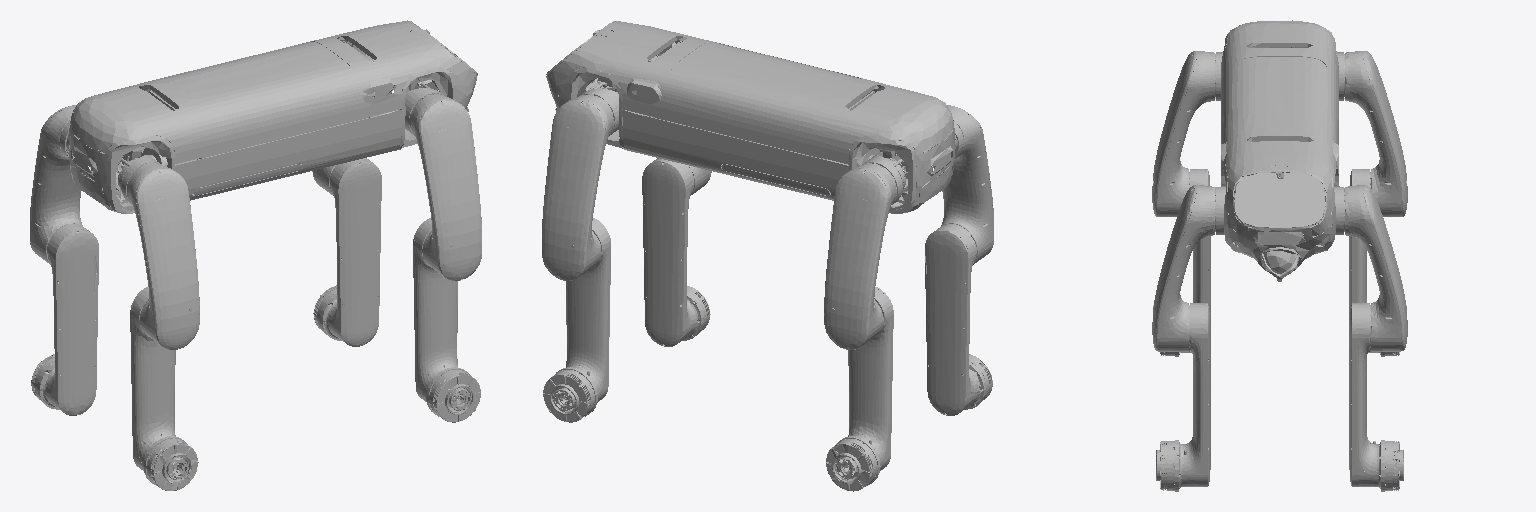
The robot description file, URDF, robot "pcb_v2":
<?xml version="1.0" encoding="utf-8"?>
<!-- This URDF was automatically created by SolidWorks to URDF Exporter! Originally created by Stephen Brawner (brawner@gmail.com) 
     Commit Version: 1.6.0-4-g7f85cfe  Build Version: 1.6.7995.38578
     For more information, please see http://wiki.ros.org/sw_urdf_exporter -->
<robot name="pcb_v2">
   <!-- <mujoco>
        <compiler 
        angle="radian"
        meshdir="../mesh/" 
        balanceinertia="true" 
        discardvisual="false" />
  </mujoco>
  <link name="world"/>
  <joint name="floating_base" type="floating">
    <parent link="world"/>
    <child link="Base_link"/>
    <origin xyz="0 0 0" rpy="0 0 0"/>
  </joint>  -->

  
  <link
    name="Base_link">
    <inertial>
      <origin
        xyz="0.022644 -0.001048 0.006253"
        rpy="0 0 0" />
      <mass
        value="10.102" />
      <inertia
        ixx="0.040804057"
        ixy="0.003158398"
        ixz="-0.000128486"
        iyy="0.258243473"
        iyz="-0.000100824"
        izz="0.271783728" />
    </inertial>
    <visual>
      <origin
        xyz="0 0 0"
        rpy="0 0 0" />
      <geometry>
        <mesh
          filename="../mesh/Base_link.STL" />
      </geometry>
      <material
        name="">
        <color
          rgba="0.752941176470588 0.752941176470588 0.752941176470588 1" />
      </material>
    </visual>
    <collision>
      <origin xyz="0.025 0 0.015" rpy="0 0 0" />
      <geometry>
        <box size="0.7 0.13 0.15" />
      </geometry>
    </collision>
  </link>
    
  <joint name="imu_joint" type="fixed">
    <parent link="Base_link"/>
    <child link="imu_link"/>
    <origin rpy="0 0 0" xyz="0 0 0"/>
  </joint>
  <link name="imu_link">
    <inertial>
      <mass value="0.001"/>
      <origin rpy="0 0 0" xyz="0 0 0"/>
      <inertia ixx="0.0001" ixy="0" ixz="0" iyy="0.0001" iyz="0" izz="0.0001"/>
    </inertial>
    <visual>
      <origin rpy="0 0 0" xyz="0 0 0"/>
      <geometry>
        <box size="0.001 0.001 0.001"/>
      </geometry>
    </visual>
    <collision>
      <origin rpy="0 0 0" xyz="0 0 0"/>
      <geometry>
        <box size=".001 .001 .001"/>
      </geometry>
    </collision>
  </link>
    <link
    name="FL_hip_link">
    <inertial>
      <origin
        xyz="0.042292 0.037471 0.000978"
        rpy="0 0 0" />
      <mass
        value="0.594" />
      <inertia
        ixx="0.000477476"
        ixy="-0.000028098"
        ixz="-0.000014122"
        iyy="0.000467730"
        iyz="-0.000003242"
        izz="0.000494014" />
    </inertial>
    <visual>
      <origin
        xyz="0 0 0"
        rpy="0 0 0" />
      <geometry>
        <mesh
          filename="../mesh/FL_hip_link.STL" />
      </geometry>
      <material
        name="">
        <color
          rgba="0.752941176470588 0.752941176470588 0.752941176470588 1" />
      </material>
    </visual>
  </link>
  <joint
    name="FL_hip_joint"
    type="revolute">
    <origin
      xyz="0.2131 0.05 0"
      rpy="0 0 0" />
    <parent
      link="Base_link" />
    <child
      link="FL_hip_link" />
    <axis
      xyz="1 0 0" />
    <limit
      lower="-0.61056"
      upper="0.34889"
      effort="48"
      velocity="12.57" />
  </joint>
  <link
    name="FL_thigh_link">
    <inertial>
      <origin
        xyz="-0.000658 0.047743 -0.162875"
        rpy="0 0 0" />
      <mass
        value="0.853" />
      <inertia
        ixx="0.005802502"
        ixy="0.000003729"
        ixz="-0.000013513"
        iyy="0.005792851"
        iyz="0.000821001"
        izz="0.000901601" />
    </inertial>
    <visual>
      <origin
        xyz="0 0 0"
        rpy="0 0 0" />
      <geometry>
        <mesh
          filename="../mesh/FL_thigh_link.STL" />
      </geometry>
      <material
        name="">
        <color
          rgba="0.752941176470588 0.752941176470588 0.752941176470588 1" />
      </material>
    </visual>
    <collision>
      <origin xyz="0 0.015 0" rpy="1.5708 0 0" />
      <geometry>
        <cylinder radius="0.042" length="0.05" />
      </geometry>
    </collision>
    <collision>
      <origin xyz="0 0.06 -0.1" rpy="0.25 0 0" />
      <geometry>
        <box size="0.085 0.035 0.11" />
      </geometry>
    </collision>
  </link>
  <joint
    name="FL_thigh_joint"
    type="revolute">
    <origin
      xyz="0.0432 0.06248 0"
      rpy="0 0 0" />
    <parent
      link="FL_hip_link" />
    <child
      link="FL_thigh_link" />
    <axis
      xyz="0 1 0" />
    <limit
      lower="-2.2"
      upper="2.05"
      effort="48"
      velocity="12.57" />
  </joint>
  <link
    name="FL_calf_link">
    <inertial>
      <origin
        xyz="-0.000904 0.016656 -0.217363"
        rpy="0 0 0" />
      <mass
        value="0.688" />
      <inertia
        ixx="0.018453974"
        ixy="0.000011100"
        ixz="-0.000020596"
        iyy="0.018669061"
        iyz="0.000334096"
        izz="0.001280151" />
    </inertial>
    <visual>
      <origin
        xyz="0 0 0"
        rpy="0 0 0" />
      <geometry>
        <mesh
          filename="../mesh/FL_calf_link.STL" />
      </geometry>
      <material
        name="">
        <color
          rgba="0.752941176470588 0.752941176470588 0.752941176470588 1" />
      </material>
    </visual>
    <collision>
      <origin xyz="0 0.02 0" rpy="1.5708 0 0" />
      <geometry>
        <cylinder radius="0.042" length="0.09" />
      </geometry>
    </collision>
    <collision>
      <origin xyz="0 -0.013 -0.13" rpy="0 0 0" />
      <geometry>
        <box size="0.08 0.025 0.17" />
      </geometry>
    </collision>
  </link>
  <joint
    name="FL_calf_joint"
    type="revolute">
    <origin
      xyz="0 0.02915 -0.21"
      rpy="0 0 0" />
    <parent
      link="FL_thigh_link" />
    <child
      link="FL_calf_link" />
    <axis
      xyz="0 1 0" />
    <limit
      lower="-2.7475"
      upper="1.4741"
      effort="48"
      velocity="12.57" />
  </joint>
  <link
    name="FL_foot_link">
    <inertial>
      <origin
        xyz="0.000000 -0.013540 0.000000"
        rpy="0 0 0" />
      <mass
        value="0.420" />
      <inertia
        ixx="0.001068390"
        ixy="0.000000000"
        ixz="0.000000005"
        iyy="0.002037382"
        iyz="0.000000000"
        izz="0.001068397" />
    </inertial>
    <visual>
      <origin
        xyz="0 0 0"
        rpy="0 0 0" />
      <geometry>
        <mesh
          filename="../mesh/FL_foot_link1.STL" />
      </geometry>
      <material
        name="">
        <color
          rgba="0.752941176470588 0.752941176470588 0.752941176470588 1" />
      </material>
    </visual>
    <collision>
      <origin xyz="0 -0.06 0" rpy="1.5708 0 0" />
      <geometry>
        <cylinder radius="0.0365" length="0.06" />
      </geometry>
    </collision>
    <collision>
      <origin
        xyz="0 0 0"
        rpy="0 0 0" />
      <geometry>
        <mesh
          filename="../mesh/FL_foot_link1.STL" />
      </geometry>
    </collision>
  </link>
    <joint
    name="FL_foot_joint"
    type="continuous">
    <origin
      xyz="0 0.060797 -0.25"
      rpy="0 0 0" />
    <parent
      link="FL_calf_link" />
    <child
      link="FL_foot_link" />
    <axis
      xyz="0 1 0" />
    <limit
      effort="24"
      velocity="37.7" />
  </joint>
  <link
    name="FR_hip_link">
    <inertial>
      <origin
        xyz="0.041936 -0.037476 0.001212"
        rpy="0 0 0" />
      <mass
        value="0.594" />
      <inertia
        ixx="0.000478845"
        ixy="0.000030516"
        ixz="-0.000013605"
        iyy="0.000466795"
        iyz="0.000001550"
        izz="0.000491449" />
    </inertial>
    <visual>
      <origin
        xyz="0 0 0"
        rpy="0 0 0" />
      <geometry>
        <mesh
          filename="../mesh/FR_hip_link.STL" />
      </geometry>
      <material
        name="">
        <color
          rgba="0.752941176470588 0.752941176470588 0.752941176470588 1" />
      </material>
    </visual>
  </link>
  <joint
    name="FR_hip_joint"
    type="revolute">
    <origin
      xyz="0.2131 -0.05 0"
      rpy="0 0 0" />
    <parent
      link="Base_link" />
    <child
      link="FR_hip_link" />
    <axis
      xyz="1 0 0" />
    <limit
      lower="-0.34889"
      upper="0.61056"
      effort="48"
      velocity="12.57" />
  </joint>
  <link
    name="FR_thigh_link">
    <inertial>
      <origin
        xyz="-0.000440 -0.047736 -0.162708"
        rpy="0 0 0" />
      <mass
        value="0.853" />
      <inertia
        ixx="0.005786948"
        ixy="0.000000549"
        ixz="-0.000002171"
        iyy="0.005775438"
        iyz="-0.000818214"
        izz="0.000898839" />
    </inertial>
    <visual>
      <origin
        xyz="0 0 0"
        rpy="0 0 0" />
      <geometry>
        <mesh
          filename="../mesh/FR_thigh_link.STL" />
      </geometry>
      <material
        name="">
        <color
          rgba="0.752941176470588 0.752941176470588 0.752941176470588 1" />
      </material>
    </visual>
    <collision>
      <origin xyz="0 -0.015 0" rpy="1.5708 0 0" />
      <geometry>
        <cylinder radius="0.042" length="0.05" />
      </geometry>
    </collision>
    <collision>
      <origin xyz="0 -0.06 -0.1" rpy="-0.25 0 0" />
      <geometry>
        <box size="0.085 0.035 0.11" />
      </geometry>
    </collision>
  </link>
  <joint
    name="FR_thigh_joint"
    type="revolute">
    <origin
      xyz="0.0432 -0.06248 0"
      rpy="0 0 0" />
    <parent
      link="FR_hip_link" />
    <child
      link="FR_thigh_link" />
    <axis
      xyz="0 1 0" />
    <limit
      lower="-2.2"
      upper="2.05"
      effort="48"
      velocity="12.57" />
  </joint>
  <link
    name="FR_calf_link">
    <inertial>
      <origin
        xyz="0.000909 -0.016662 -0.194447"
        rpy="0 0 0" />
      <mass
        value="0.688" />
      <inertia
        ixx="0.020013503"
        ixy="0.000011235"
        ixz="0.000034707"
        iyy="0.020228686"
        iyz="-0.001315897"
        izz="0.001280043" />
    </inertial>
    <visual>
      <origin
        xyz="0 0 0"
        rpy="0 0 0" />
      <geometry>
        <mesh
          filename="../mesh/FR_calf_link.STL" />
      </geometry>
      <material
        name="">
        <color
          rgba="0.752941176470588 0.752941176470588 0.752941176470588 1" />
      </material>
    </visual>
    <collision>
      <origin xyz="0 -0.02 0" rpy="1.5708 0 0" />
      <geometry>
        <cylinder radius="0.042" length="0.09" />
      </geometry>
    </collision>
    <collision>
      <origin xyz="0 0.013 -0.13" rpy="0 0 0" />
      <geometry>
        <box size="0.08 0.025 0.17" />
      </geometry>
    </collision>
  </link>
  <joint
    name="FR_calf_joint"
    type="revolute">
    <origin
      xyz="0 -0.02915 -0.21"
      rpy="0 0 0" />
    <parent
      link="FR_thigh_link" />
    <child
      link="FR_calf_link" />
    <axis
      xyz="0 1 0" />
    <limit
      lower="-2.7475"
      upper="1.4741"
      effort="48"
      velocity="12.57" />
  </joint>
  <link
    name="FR_foot_link">
    <inertial>
      <origin
        xyz="0.000000 0.013540 0.000001"
        rpy="0 0 0" />
      <mass
        value="0.420" />
      <inertia
        ixx="0.001068399"
        ixy="0.000000000"
        ixz="-0.000000003"
        iyy="0.002037382"
        iyz="0.000000000"
        izz="0.001068388" />
    </inertial>
    <visual>
      <origin
        xyz="0 0 0"
        rpy="0 0 0" />
      <geometry>
        <mesh
          filename="../mesh/FR_foot_link1.STL" />
      </geometry>
      <material
        name="">
        <color
          rgba="0.752941176470588 0.752941176470588 0.752941176470588 1" />
      </material>
    </visual>
    <collision>
      <origin xyz="0 0.06 0" rpy="1.5708 0 0" />
      <geometry>
        <cylinder radius="0.0365" length="0.06" />
      </geometry>
    </collision>
    <collision>
      <origin
        xyz="0 0 0"
        rpy="0 0 0" />
      <geometry>
        <mesh
          filename="../mesh/FR_foot_link1.STL" />
      </geometry>
    </collision>
  </link>
  <joint
    name="FR_foot_joint"
    type="continuous">
    <origin
      xyz="0 -0.060797 -0.25"
      rpy="0 0 0" />
    <parent
      link="FR_calf_link" />
    <child
      link="FR_foot_link" />
    <axis
      xyz="0 1 0" />
    <limit
      effort="24"
      velocity="37.7" />
  </joint>


    <link
    name="RL_hip_link">
    <inertial>
      <origin
        xyz="-0.041936 0.037476 0.001212"
        rpy="0 0 0" />
      <mass
        value="0.594" />
      <inertia
        ixx="0.000478845"
        ixy="0.000030516"
        ixz="0.000013605"
        iyy="0.000466795"
        iyz="-0.000001550"
        izz="0.000491449" />
    </inertial>
    <visual>
      <origin
        xyz="0 0 0"
        rpy="0 0 0" />
      <geometry>
        <mesh
          filename="../mesh/RL_hip_link.STL" />
      </geometry>
      <material
        name="">
        <color
          rgba="0.752941176470588 0.752941176470588 0.752941176470588 1" />
      </material>
    </visual>
  </link>
  <joint
    name="RL_hip_joint"
    type="revolute">
    <origin
      xyz="-0.22064 0.05 0"
      rpy="0 0 0" />
    <parent
      link="Base_link" />
    <child
      link="RL_hip_link" />
    <axis
      xyz="1 0 0" />
    <limit
      lower="-0.61056"
      upper="0.34889"
      effort="48"
      velocity="12.57" />
  </joint>
  <link
    name="RL_thigh_link">
    <inertial>
      <origin
        xyz="0.000440 0.047736 -0.162708"
        rpy="0 0 0" />
      <mass
        value="0.853" />
      <inertia
        ixx="0.005786948"
        ixy="0.000000549"
        ixz="0.000002171"
        iyy="0.005775438"
        iyz="0.000818214"
        izz="0.000898839" />
    </inertial>
    <visual>
      <origin
        xyz="0 0 0"
        rpy="0 0 0" />
      <geometry>
        <mesh
          filename="../mesh/RL_thigh_link.STL" />
      </geometry>
      <material
        name="">
        <color
          rgba="0.752941176470588 0.752941176470588 0.752941176470588 1" />
      </material>
    </visual>
    <collision>
      <origin xyz="0 0.015 0" rpy="1.5708 0 0" />
      <geometry>
        <cylinder radius="0.042" length="0.05" />
      </geometry>
    </collision>
    <collision>
      <origin xyz="0 0.06 -0.1" rpy="0.25 0 0" />
      <geometry>
        <box size="0.085 0.035 0.11" />
      </geometry>
    </collision>
  </link>
  <joint
    name="RL_thigh_joint"
    type="revolute">
    <origin
      xyz="-0.0432 0.06248 0"
      rpy="0 0 0" />
    <parent
      link="RL_hip_link" />
    <child
      link="RL_thigh_link" />
    <axis
      xyz="0 1 0" />
    <limit
      lower="-2.05"
      upper="2.2"
      effort="48"
      velocity="12.57" />
  </joint>
  <link
    name="RL_calf_link">
    <inertial>
      <origin
        xyz="-0.000908 0.016662 -0.194447"
        rpy="0 0 0" />
      <mass
        value="0.688" />
      <inertia
        ixx="0.020013503"
        ixy="0.000011235"
        ixz="-0.000034707"
        iyy="0.020228686"
        iyz="0.001315897"
        izz="0.001280043" />
    </inertial>
    <visual>
      <origin
        xyz="0 0 0"
        rpy="0 0 0" />
      <geometry>
        <mesh
          filename="../mesh/RL_calf_link.STL" />
      </geometry>
      <material
        name="">
        <color
          rgba="0.752941176470588 0.752941176470588 0.752941176470588 1" />
      </material>
    </visual>
    <collision>
      <origin xyz="0 0.02 0" rpy="1.5708 0 0" />
      <geometry>
        <cylinder radius="0.042" length="0.09" />
      </geometry>
    </collision>
    <collision>
      <origin xyz="0 -0.013 -0.13" rpy="0 0 0" />
      <geometry>
        <box size="0.08 0.025 0.17" />
      </geometry>
    </collision>
  </link>
  <joint
    name="RL_calf_joint"
    type="revolute">
    <origin
      xyz="0 0.02915 -0.21"
      rpy="0 0 0" />
    <parent
      link="RL_thigh_link" />
    <child
      link="RL_calf_link" />
    <axis
      xyz="0 1 0" />
    <limit
      lower="-1.4741"
      upper="2.7475"
      effort="48"
      velocity="12.57" />
  </joint>
  <link
    name="RL_foot_link">
    <inertial>
      <origin
        xyz="0.000000 -0.013540 0.000000"
        rpy="0 0 0" />
      <mass
        value="0.420" />
      <inertia
        ixx="0.001068388"
        ixy="0.000000000"
        ixz="0.000000003"
        iyy="0.002037382"
        iyz="0.000000000"
        izz="0.001068399" />
    </inertial>
    <visual>
      <origin
        xyz="0 0 0"
        rpy="0 0 0" />
      <geometry>
        <mesh
          filename="../mesh/RL_foot_link1.STL" />
      </geometry>
      <material
        name="">
        <color
          rgba="0.752941176470588 0.752941176470588 0.752941176470588 1" />
      </material>
    </visual>
    <collision>
      <origin xyz="0 -0.06 0" rpy="1.5708 0 0" />
      <geometry>
        <cylinder radius="0.0365" length="0.06" />
      </geometry>
    </collision>
    <collision>
      <origin
        xyz="0 0 0"
        rpy="0 0 0" />
      <geometry>
        <mesh
          filename="../mesh/RL_foot_link1.STL" />
      </geometry>
    </collision>
  </link>
  <joint
    name="RL_foot_joint"
    type="continuous">
    <origin
      xyz="0 0.060797 -0.25"
      rpy="0 0 0" />
    <parent
      link="RL_calf_link" />
    <child
      link="RL_foot_link" />
    <axis
      xyz="0 1 0" />
    <limit
      effort="24"
      velocity="37.7" />
  </joint>
  <link
    name="RR_hip_link">
    <inertial>
      <origin
        xyz="-0.042292 -0.037471 0.000978"
        rpy="0 0 0" />
      <mass
        value="0.594" />
      <inertia
        ixx="0.000477476"
        ixy="-0.000028098"
        ixz="0.000014122"
        iyy="0.000467730"
        iyz="0.000003242"
        izz="0.000494014" />
    </inertial>
    <visual>
      <origin
        xyz="0 0 0"
        rpy="0 0 0" />
      <geometry>
        <mesh
          filename="../mesh/RR_hip_link.STL" />
      </geometry>
      <material
        name="">
        <color
          rgba="0.752941176470588 0.752941176470588 0.752941176470588 1" />
      </material>
    </visual>
  </link>
  <joint
    name="RR_hip_joint"
    type="revolute">
    <origin
      xyz="-0.22064 -0.05 0"
      rpy="0 0 0" />
    <parent
      link="Base_link" />
    <child
      link="RR_hip_link" />
    <axis
      xyz="1 0 0" />
    <limit
      lower="-0.34889"
      upper="0.61056"
      effort="48"
      velocity="12.57" />
  </joint>
  <link
    name="RR_thigh_link">
    <inertial>
      <origin
        xyz="0.000658 -0.047743 -0.162875"
        rpy="0 0 0" />
      <mass
        value="0.853" />
      <inertia
        ixx="0.005802502"
        ixy="0.000003729"
        ixz="0.000013513"
        iyy="0.005792851"
        iyz="-0.000821001"
        izz="0.000901601" />
    </inertial>
    <visual>
      <origin
        xyz="0 0 0"
        rpy="0 0 0" />
      <geometry>
        <mesh
          filename="../mesh/RR_thigh_link.STL" />
      </geometry>
      <material
        name="">
        <color
          rgba="0.752941176470588 0.752941176470588 0.752941176470588 1" />
      </material>
    </visual>
    <collision>
      <origin xyz="0 -0.015 0" rpy="1.5708 0 0" />
      <geometry>
        <cylinder radius="0.042" length="0.05" />
      </geometry>
    </collision>
    <collision>
      <origin xyz="0 -0.06 -0.1" rpy="-0.25 0 0" />
      <geometry>
        <box size="0.085 0.035 0.11" />
      </geometry>
    </collision>
  </link>
  <joint
    name="RR_thigh_joint"
    type="revolute">
    <origin
      xyz="-0.0432 -0.06248 0"
      rpy="0 0 0" />
    <parent
      link="RR_hip_link" />
    <child
      link="RR_thigh_link" />
    <axis
      xyz="0 1 0" />
    <limit
      lower="-2.05"
      upper="2.2"
      effort="48"
      velocity="12.57" />
  </joint>
  <link
    name="RR_calf_link">
    <inertial>
      <origin
        xyz="0.000903 -0.016656 -0.217363"
        rpy="0 0 0" />
      <mass
        value="0.688" />
      <inertia
        ixx="0.018453974"
        ixy="0.000011100"
        ixz="0.000020596"
        iyy="0.018669061"
        iyz="-0.000334096"
        izz="0.001280151" />
    </inertial>
    <visual>
      <origin
        xyz="0 0 0"
        rpy="0 0 0" />
      <geometry>
        <mesh
          filename="../mesh/RR_calf_link.STL" />
      </geometry>
      <material
        name="">
        <color
          rgba="0.752941176470588 0.752941176470588 0.752941176470588 1" />
      </material>
    </visual>
    <collision>
      <origin xyz="0 -0.02 0" rpy="1.5708 0 0" />
      <geometry>
        <cylinder radius="0.042" length="0.09" />
      </geometry>
    </collision>
    <collision>
      <origin xyz="0 0.013 -0.13" rpy="0 0 0" />
      <geometry>
        <box size="0.08 0.025 0.17" />
      </geometry>
    </collision>
  </link>
  <joint
    name="RR_calf_joint"
    type="revolute">
    <origin
      xyz="0 -0.02915 -0.21"
      rpy="0 0 0" />
    <parent
      link="RR_thigh_link" />
    <child
      link="RR_calf_link" />
    <axis
      xyz="0 1 0" />
    <limit
      lower="-1.4741"
      upper="2.7475"
      effort="48"
      velocity="12.57" />
  </joint>
  <link
    name="RR_foot_link">
    <inertial>
      <origin
        xyz="-0.000001 0.013540 0.000000"
        rpy="0 0 0" />
      <mass
        value="0.420" />
      <inertia
        ixx="0.001068388"
        ixy="0.000000000"
        ixz="0.000000001"
        iyy="0.002037382"
        iyz="0.000000000"
        izz="0.001068399" />
    </inertial>
    <visual>
      <origin
        xyz="0 0 0"
        rpy="0 0 0" />
      <geometry>
        <mesh
          filename="../mesh/RR_foot_link1.STL" />
      </geometry>
      <material
        name="">
        <color
          rgba="0.752941176470588 0.752941176470588 0.752941176470588 1" />
      </material>
    </visual>
    <collision>
      <origin xyz="0 0.06 0" rpy="1.5708 0 0" />
      <geometry>
        <cylinder radius="0.0365" length="0.06" />
      </geometry>
    </collision>
    <collision>
      <origin
        xyz="0 0 0"
        rpy="0 0 0" />
      <geometry>
        <mesh
          filename="../mesh/RR_foot_link1.STL" />
      </geometry>
    </collision>
  </link>
  <joint
    name="RR_foot_joint"
    type="continuous">
    <origin
      xyz="0 -0.060797 -0.25"
      rpy="0 0 0" />
    <parent
      link="RR_calf_link" />
    <child
      link="RR_foot_link" />
    <axis
      xyz="0 1 0" />
    <limit
      effort="24"
      velocity="37.7" />
  </joint>

</robot>

--- What the picture shows (computed from the rendered views, not written in the file) ---
Views: 3 orthographic renders of the robot side by side, from view 1: azimuth 30°, elevation 25°; view 2: azimuth 150°, elevation 25°; view 3: azimuth 270°, elevation 25°.
Model pcb_v2 with 18 links and 17 joints (12 revolute, 4 continuous, 1 fixed), rooted at Base_link, posed every joint at zero.
Visible links, largest first — view 1: Base_link, RR_thigh_link, FR_thigh_link, RL_calf_link, FL_calf_link, FR_calf_link, RR_calf_link, RL_thigh_link, RR_hip_link, FR_hip_link; view 2: Base_link, RL_thigh_link, FL_thigh_link, RR_calf_link, FR_calf_link, RL_calf_link, FL_calf_link, RR_thigh_link, RL_hip_link, FL_hip_link; view 3: Base_link, FL_thigh_link, FR_thigh_link, FL_calf_link, FR_calf_link, RL_thigh_link, RR_thigh_link, RL_calf_link, RR_calf_link.
Link boxes in pixels (left/top/right/bottom): Base_link: left=69, top=20, right=477, bottom=213; RR_thigh_link: left=127, top=162, right=199, bottom=349; FR_thigh_link: left=409, top=94, right=481, bottom=280; RL_calf_link: left=31, top=224, right=98, bottom=415; FL_calf_link: left=313, top=158, right=381, bottom=346; FR_calf_link: left=413, top=218, right=480, bottom=422; RR_calf_link: left=130, top=287, right=198, bottom=490; RL_thigh_link: left=30, top=105, right=82, bottom=264; RR_hip_link: left=116, top=155, right=161, bottom=204; FR_hip_link: left=405, top=82, right=442, bottom=135; Base_link: left=546, top=21, right=954, bottom=213; RL_thigh_link: left=824, top=163, right=896, bottom=349; FL_thigh_link: left=542, top=94, right=614, bottom=280; RR_calf_link: left=925, top=224, right=992, bottom=415; FR_calf_link: left=642, top=158, right=710, bottom=346; RL_calf_link: left=826, top=287, right=893, bottom=491; FL_calf_link: left=543, top=218, right=610, bottom=422; RR_thigh_link: left=941, top=105, right=993, bottom=264; RL_hip_link: left=864, top=155, right=906, bottom=204; FL_hip_link: left=580, top=83, right=618, bottom=134; Base_link: left=1221, top=20, right=1339, bottom=281; FL_thigh_link: left=1345, top=185, right=1407, bottom=351; FR_thigh_link: left=1152, top=185, right=1214, bottom=351; FL_calf_link: left=1349, top=303, right=1403, bottom=491; FR_calf_link: left=1156, top=303, right=1210, bottom=491; RL_thigh_link: left=1344, top=51, right=1407, bottom=216; RR_thigh_link: left=1152, top=51, right=1215, bottom=216; RL_calf_link: left=1349, top=169, right=1399, bottom=356; RR_calf_link: left=1160, top=169, right=1210, bottom=356.
Size in the robot's own frame: 0.7028 by 0.4188 by 0.5991 metres.
13 mesh visuals loaded from 17 distinct referenced files (13 binary STL); not drawn: 4 (reference not matched to a file when rendering).
